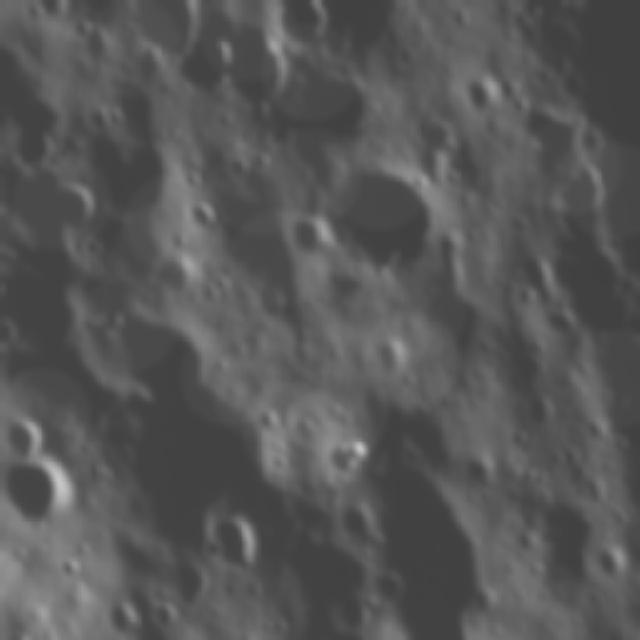crater: (113, 382, 290, 562), (314, 168, 452, 288), (516, 489, 619, 626), (269, 53, 382, 172), (99, 300, 223, 398), (0, 444, 88, 533), (293, 586, 425, 640), (202, 496, 267, 582), (231, 19, 291, 110), (127, 0, 213, 62), (404, 98, 458, 177), (183, 26, 237, 102), (369, 320, 425, 392), (268, 0, 335, 60), (0, 397, 55, 460), (335, 497, 393, 554), (55, 170, 103, 238), (12, 125, 66, 178), (170, 552, 213, 612), (592, 532, 638, 588), (368, 562, 406, 618), (115, 614, 193, 640), (294, 212, 332, 262), (465, 65, 500, 113), (542, 298, 580, 342), (183, 198, 220, 232), (0, 306, 22, 359), (2, 626, 43, 640), (0, 554, 6, 615)
